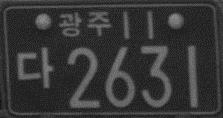1: (184, 44, 201, 109), (119, 7, 132, 39), (144, 9, 156, 41)
2: (65, 45, 102, 110)
3: (139, 44, 172, 108)
6: (102, 45, 136, 108)
광주_O: (57, 10, 112, 36)
다: (14, 45, 55, 91)
